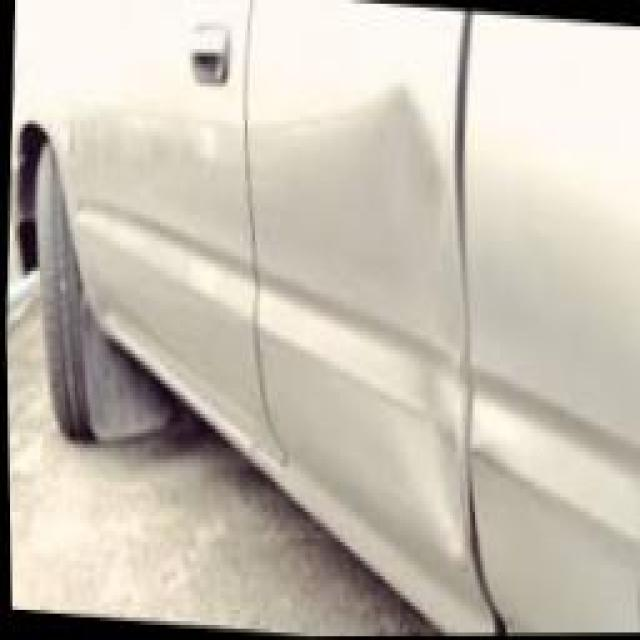Door: (280, 70, 481, 576)
